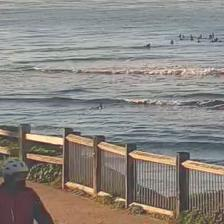surfer: (90, 104, 104, 111), (144, 44, 152, 48), (208, 33, 212, 39), (210, 39, 216, 43), (182, 33, 186, 38), (170, 39, 174, 44), (211, 32, 214, 38), (218, 40, 224, 43), (199, 34, 203, 38), (178, 34, 182, 38), (191, 37, 194, 41), (196, 41, 201, 43), (179, 38, 181, 40)
